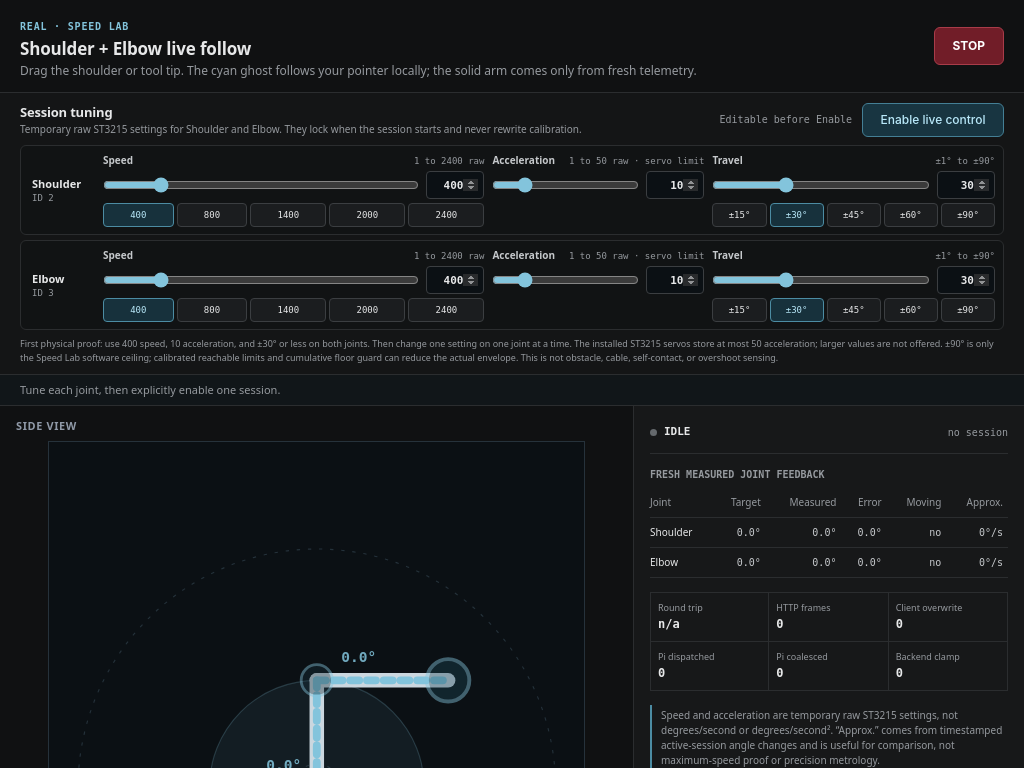
ArmLiveFollow › treats a heartbeat 409 as terminal instead of retrying the lease
Click the button "Enable live control" at coordinates (933, 120), box [862,103,1004,137]
Wait 1125 ms
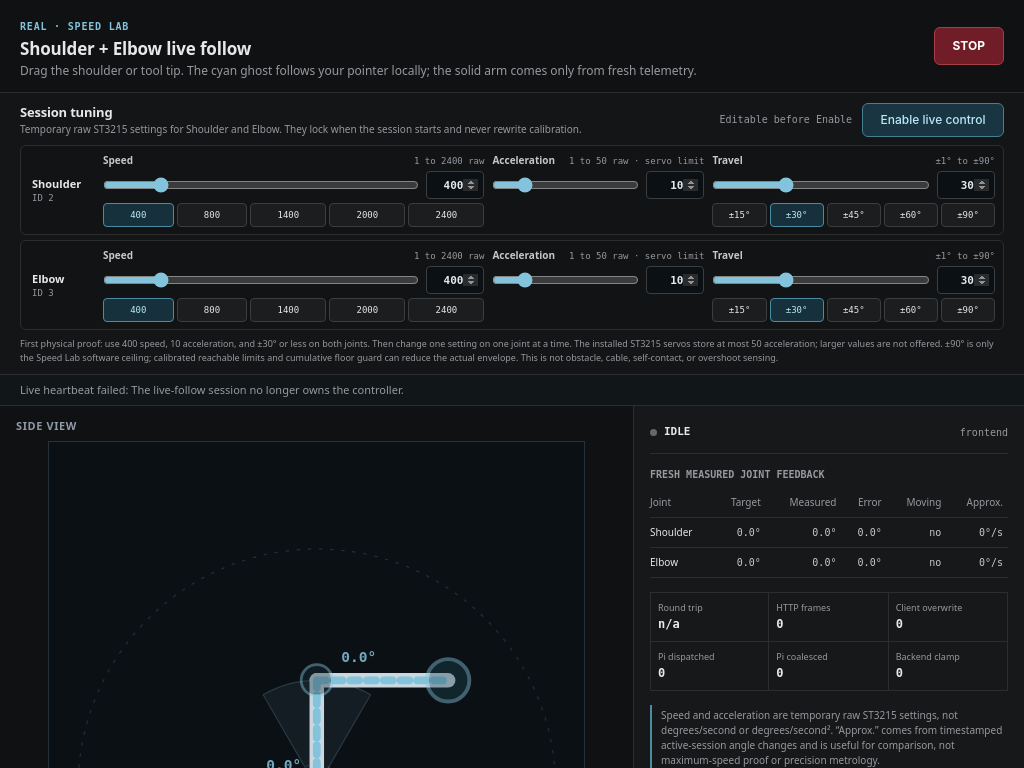
Check: the text "Live heartbeat failed: The live-follow session no longer owns the controller." is shown, box [0,375,1023,406]
